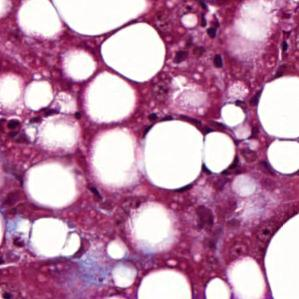steatosis: (144, 118, 206, 191), (98, 24, 171, 85)
